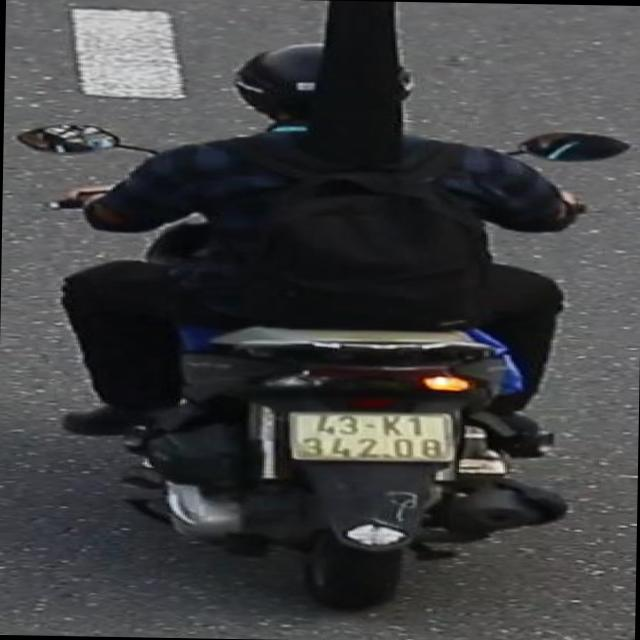LP: (283, 404, 463, 465)
